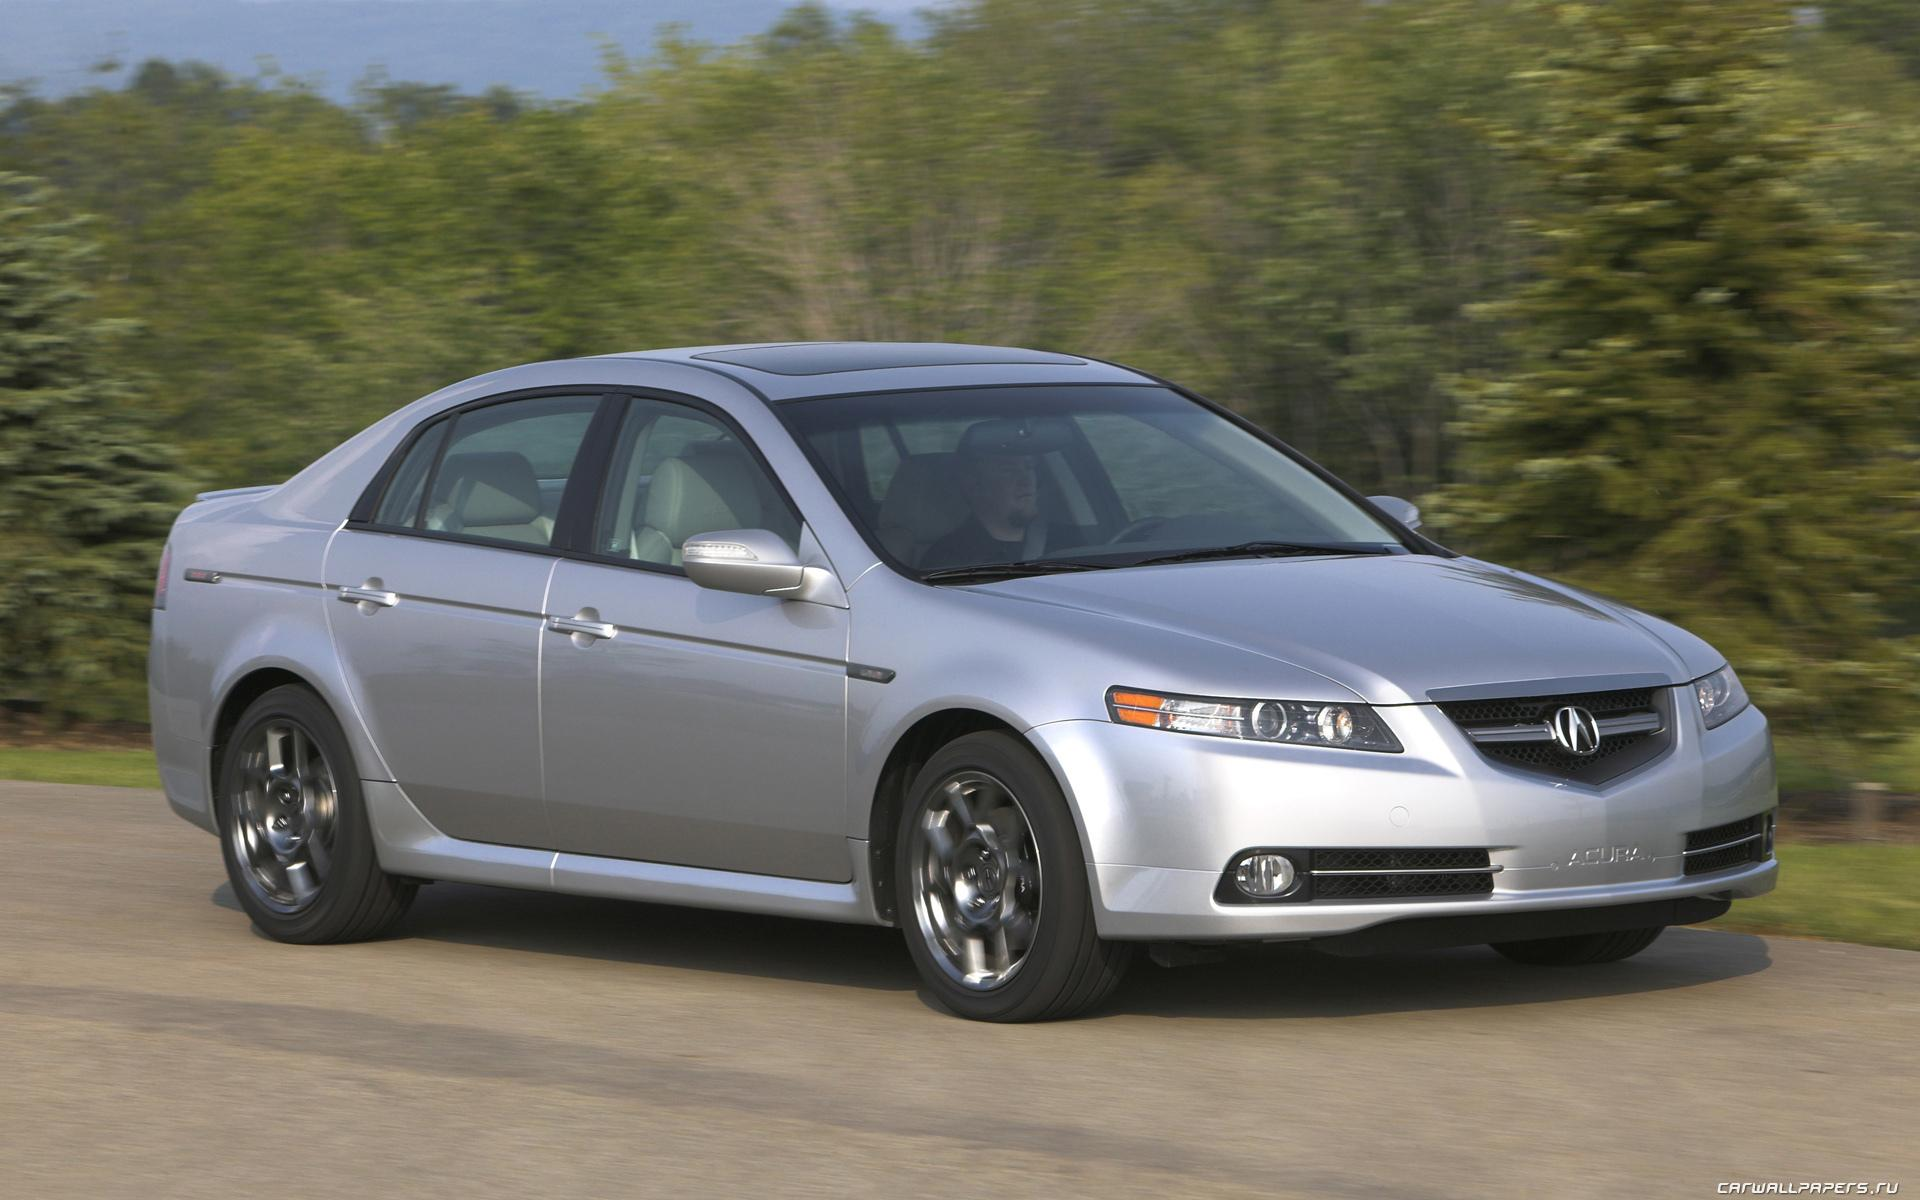car: (145, 325, 1790, 1044)
